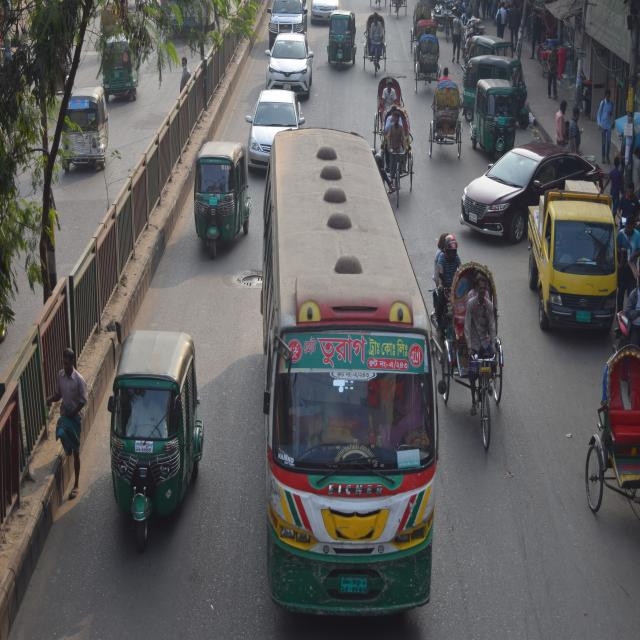bus: (253, 127, 438, 637)
car: (457, 130, 542, 248), (248, 82, 298, 169), (263, 30, 314, 90)
pickup-van: (525, 187, 618, 341), (265, 0, 308, 33)
